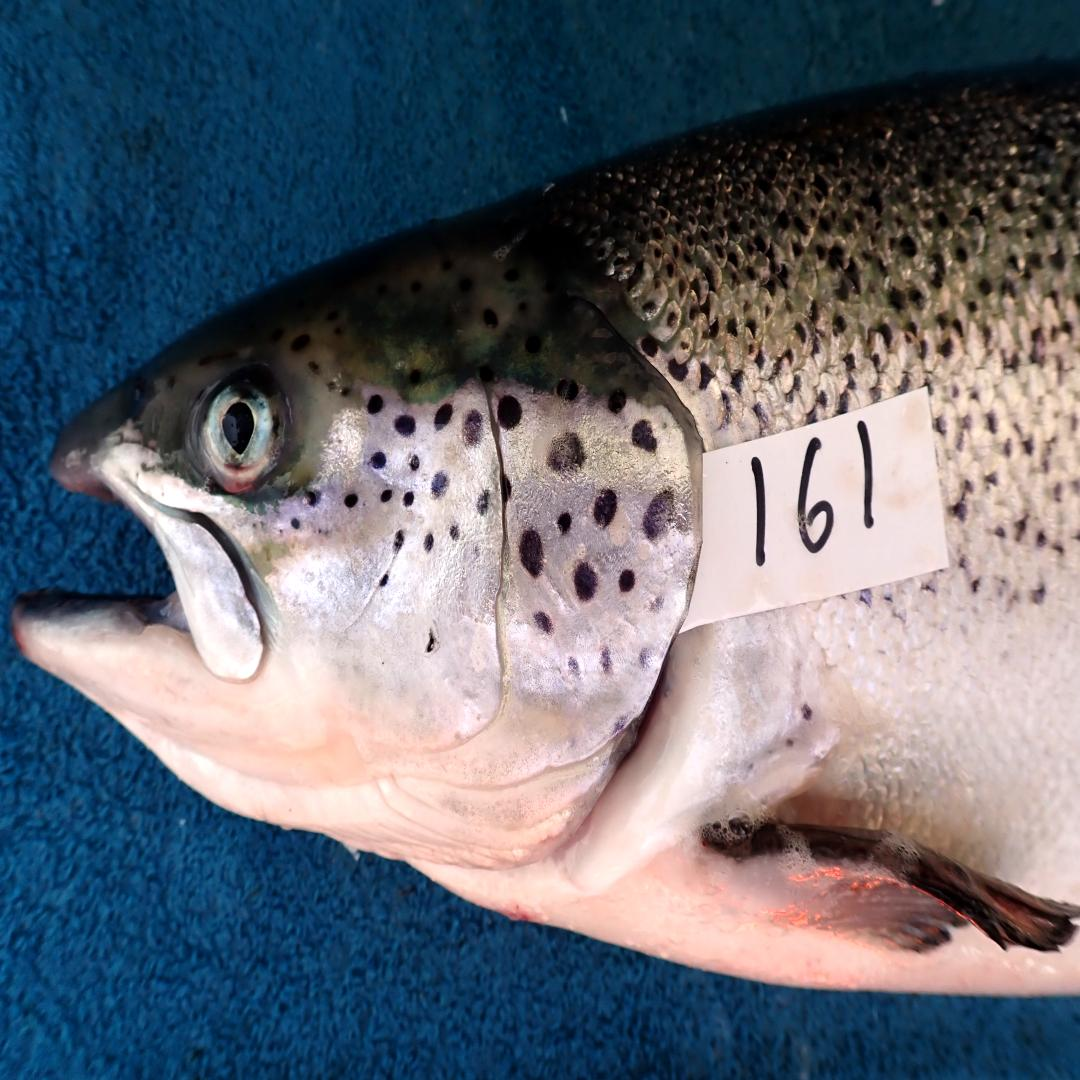roi: (264, 380, 700, 880)
